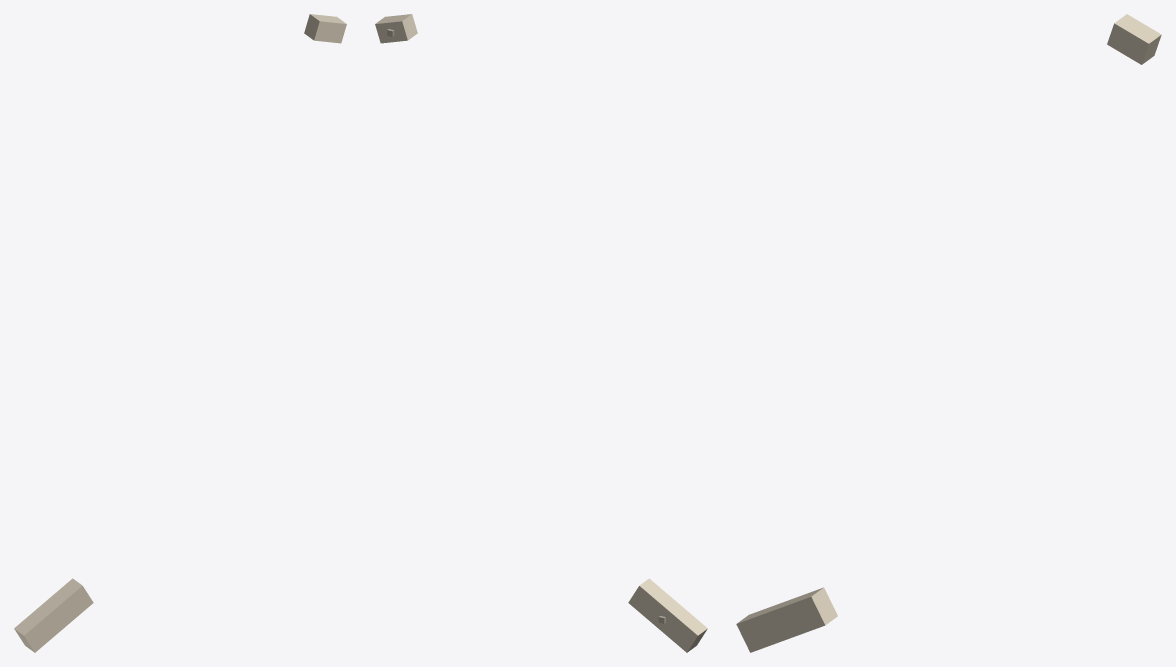
Rendered from irbid_3577_3245.glb.
3 renders of one model, left to right at view 1: azimuth 30°, elevation 25°; view 2: azimuth 150°, elevation 25°; view 3: azimuth 330°, elevation 25°, orthographic. The views are drawn at different scales.
Parts seen in each view (by area): view 1: Building_.001, Building_; view 2: Building_.001, Building_; view 3: Building_.001, Building_.
Boxes of the visible parts, bbox=[...] form: Building_.001: bbox=[14, 578, 93, 652]; Building_: bbox=[304, 14, 346, 43]; Building_.001: bbox=[628, 578, 707, 652]; Building_: bbox=[375, 14, 417, 43]; Building_.001: bbox=[736, 587, 837, 652]; Building_: bbox=[1107, 14, 1161, 64].
Bounding box in the file's own units: 140 × 233 × 8.7.
